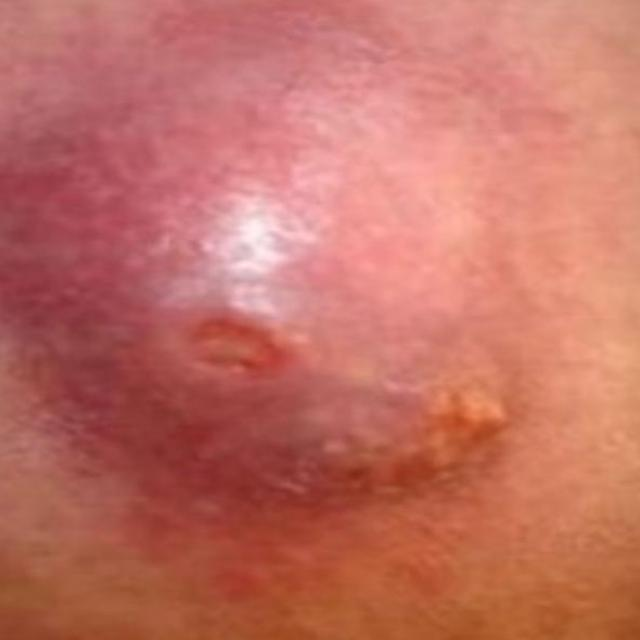nodule: (0, 12, 583, 544)
